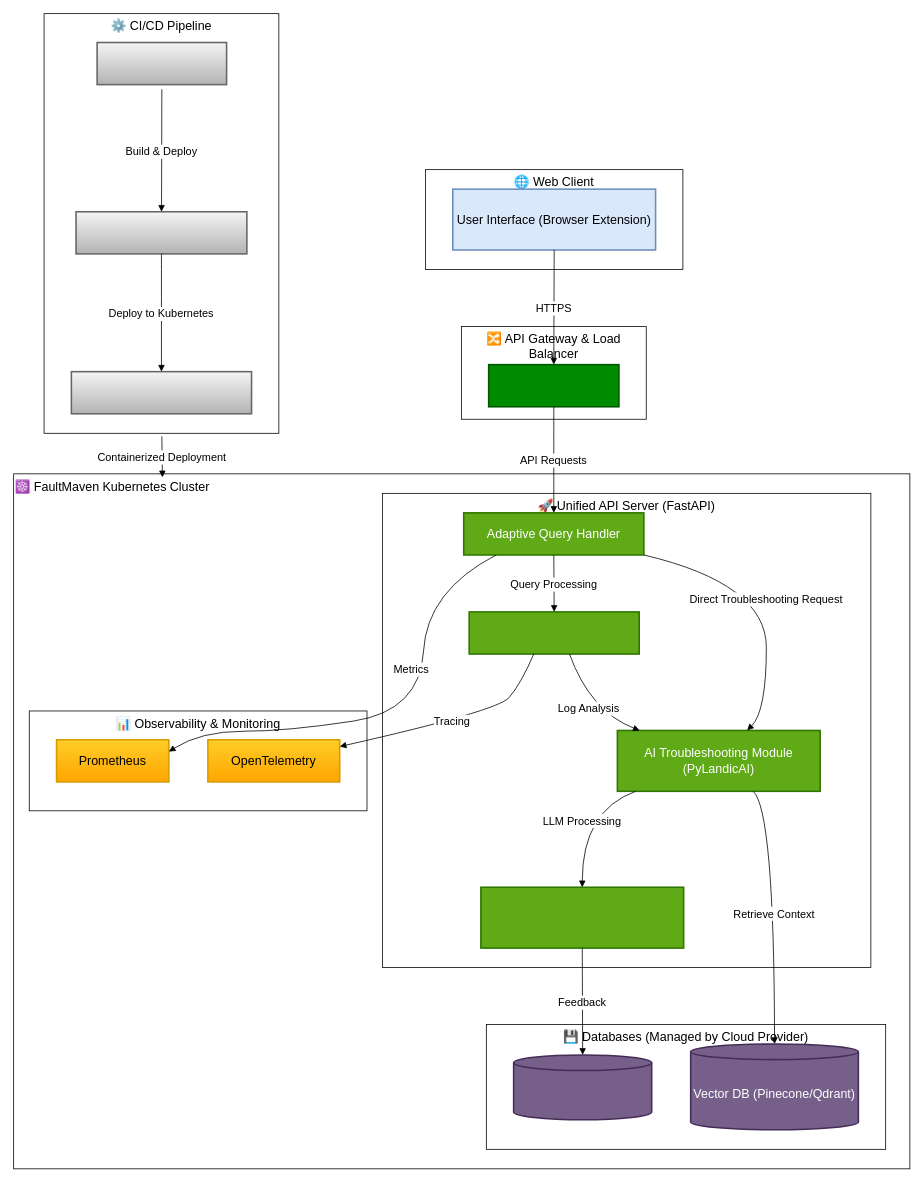
Some shapes in this 924 by 1182 pixel diagram are drawn without their labels. Each missing label, with the centre of its shape:
Continuous Learning (Session-based): the point at 582,917
Docker Image Registry: the point at 161,232
GitHub Actions: the point at 161,63
Kubernetes Deployment: the point at 161,392
Log & Metrics Analysis: the point at 554,632
Nginx / Traefik: the point at 553,385
PostgreSQL (Metadata): the point at 582,1087
